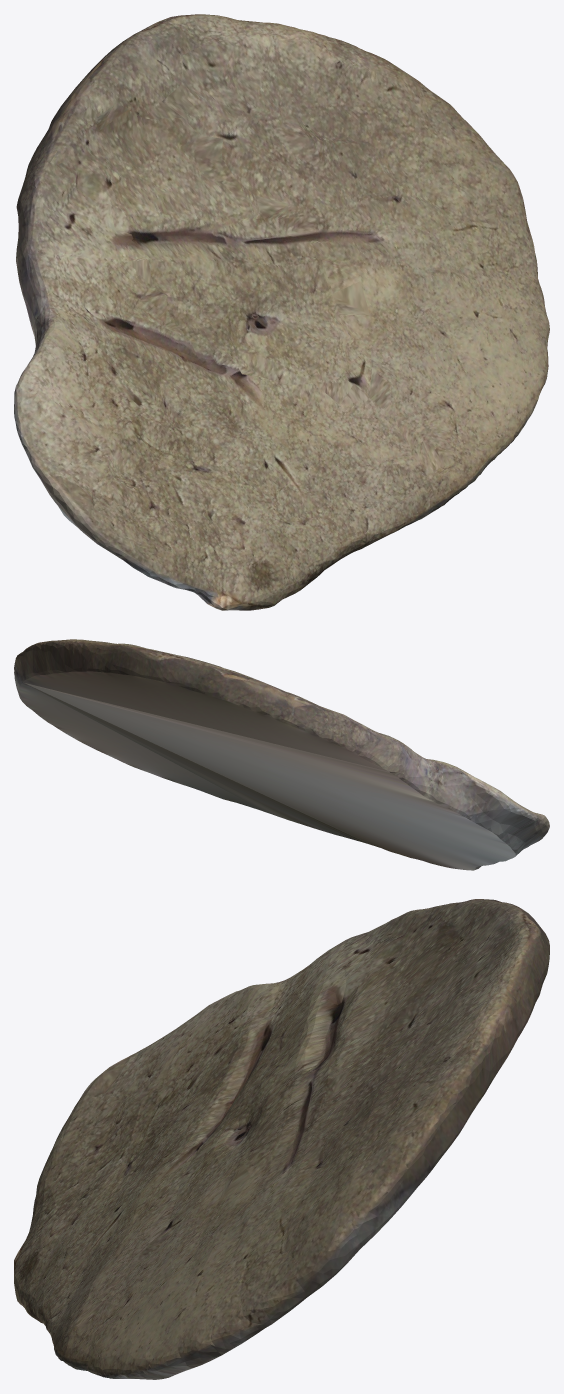
File: liver.dae
3 renders of one model, top to bottom at view 1: azimuth 30°, elevation 25°; view 2: azimuth 150°, elevation 25°; view 3: azimuth 270°, elevation 25°, orthographic. The views are drawn at different scales.
Visible parts, largest first — view 1: model_mesh_001; view 2: model_mesh_001; view 3: model_mesh_001.
Boxes of the visible parts, x1,y1,x2,y2 form: model_mesh_001: (14, 14, 549, 610); model_mesh_001: (14, 639, 549, 870); model_mesh_001: (14, 899, 549, 1379).
Bounding box in the file's own units: 0.241 × 0.1762 × 0.1617.
Materials: 1 (1 with a texture image).
